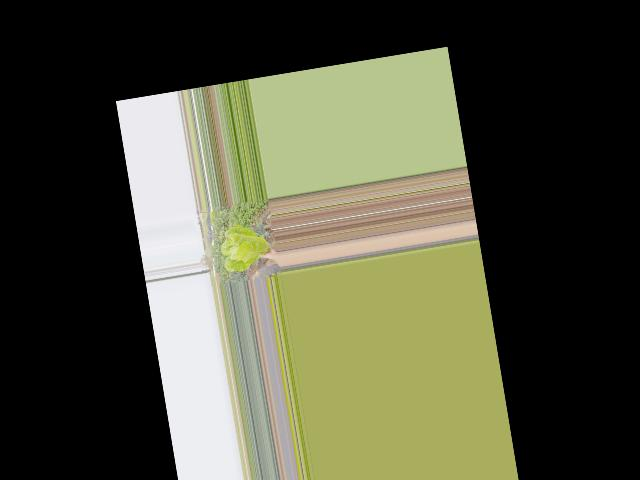lettuce: (217, 219, 276, 276)
